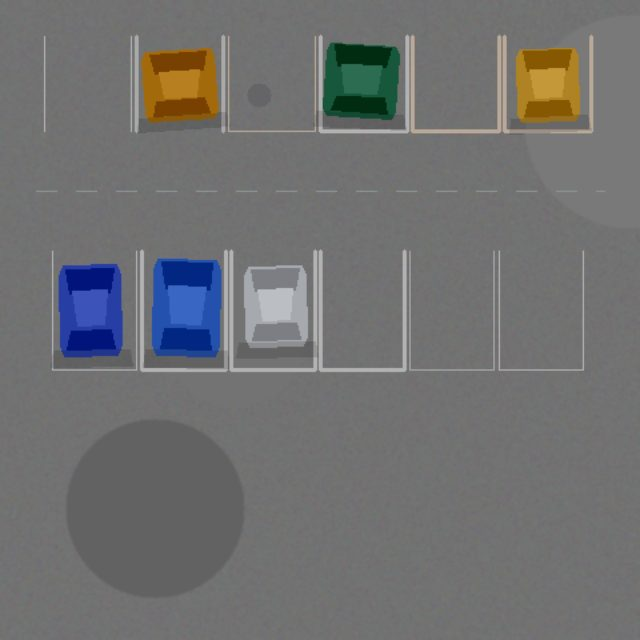space-empty: (320, 251, 404, 369), (409, 251, 493, 369), (499, 251, 583, 369), (44, 36, 131, 131), (228, 36, 315, 131), (412, 36, 499, 131)
space-occupied: (52, 251, 136, 369), (141, 251, 225, 369), (231, 251, 315, 369), (136, 36, 223, 131), (320, 36, 407, 131), (504, 36, 591, 131)
